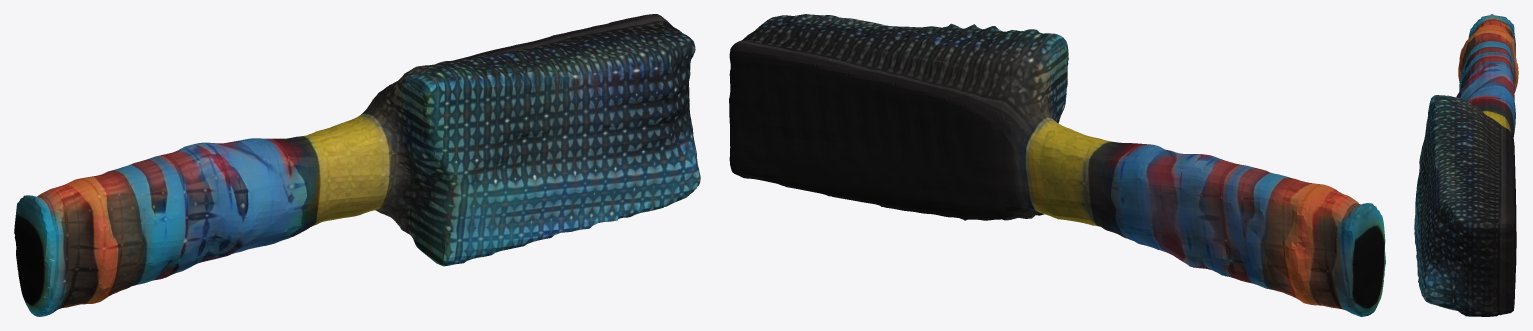
Rendered from hairbrush_modified.obj.
The picture shows the model from 3 angles, left to right: view 1: azimuth 30°, elevation 25°; view 2: azimuth 150°, elevation 25°; view 3: azimuth 270°, elevation 25°; orthographic projection. The views are drawn at different scales.
Bounding box in the file's own units: 0.2195 × 0.0591 × 0.0431.
1 material, 1 textured.
